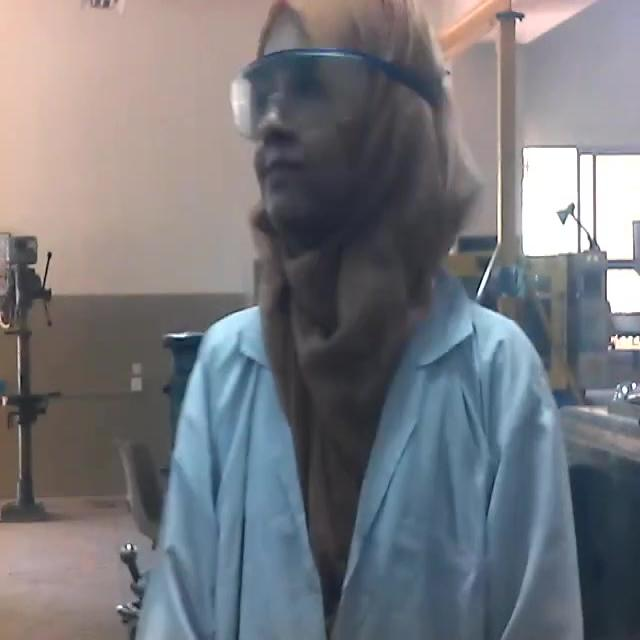googles: (225, 40, 404, 138)
labcoat: (131, 290, 585, 640)
